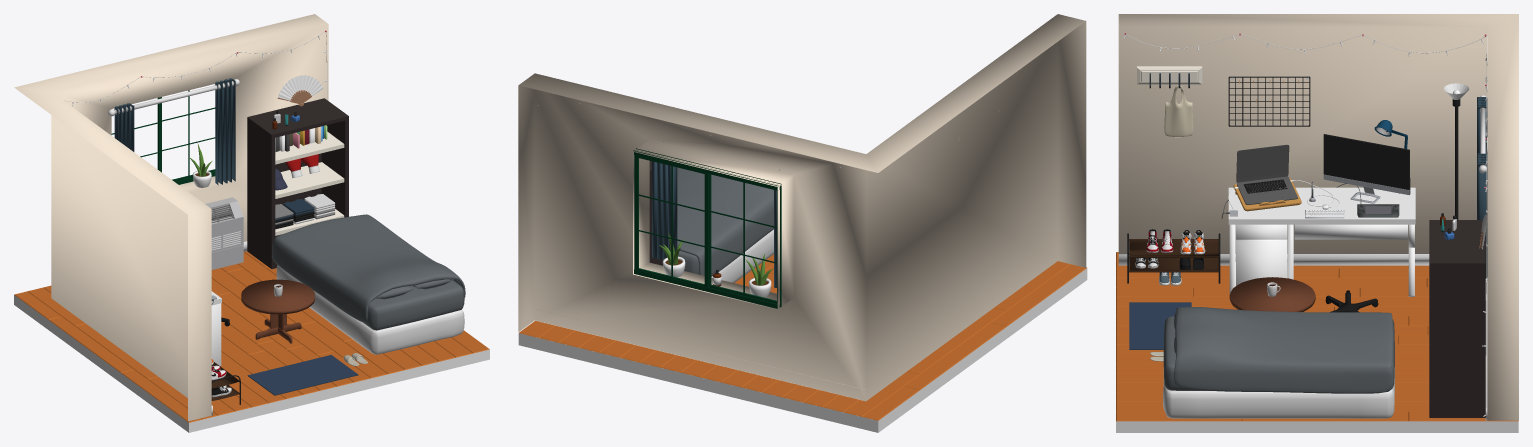
The model's file is basic_house_join.glb.
3 renders of one model, left to right at view 1: azimuth 30°, elevation 25°; view 2: azimuth 150°, elevation 25°; view 3: azimuth 270°, elevation 25°, orthographic. The views are drawn at different scales.
Visible parts, largest first — view 1: pin_geo; view 2: pin_geo; view 3: pin_geo.
Part boxes in pixels (x1,y1,x2,y2): pin_geo: (14,14,489,432); pin_geo: (518,14,1087,432); pin_geo: (1116,14,1518,432).
Bounding box in the file's own units: 6.33 × 4.33 × 6.32.
